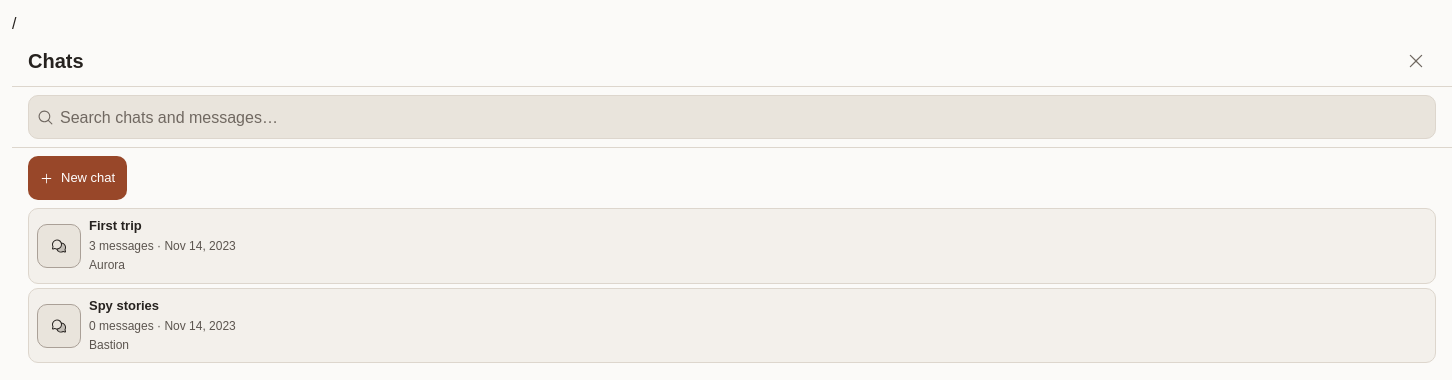
Test: ChatManagementPanel › creates a chat for the current context and opens it
Expected: the text "First trip" is shown, [89, 218, 142, 233]
Click the button "New chat".
click(78, 178)  # box [28, 156, 127, 200]
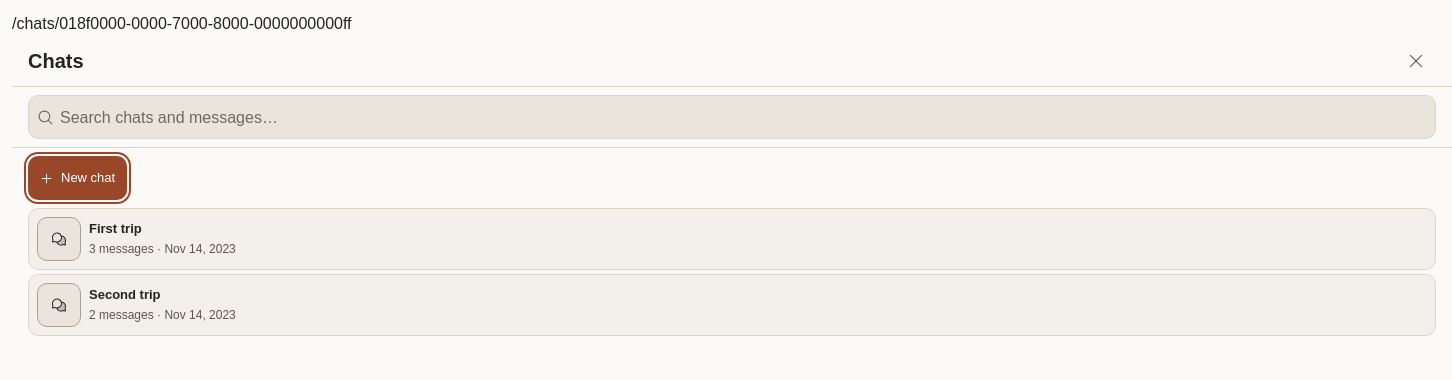
Now the text with test id "location-probe" reads "/chats/018f0000-0000-7000-8000-0000000000ff", box [12, 15, 352, 32]
